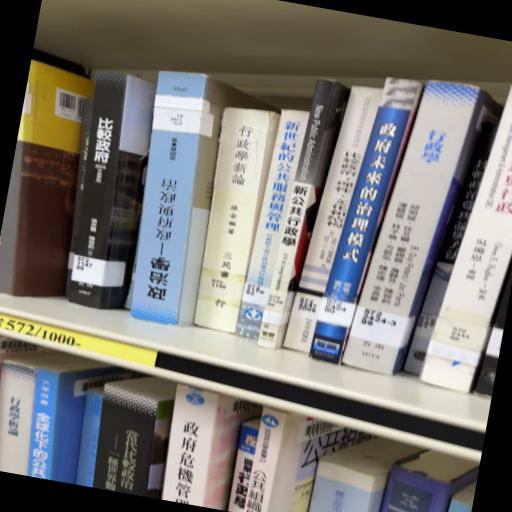reverse: (130, 71, 270, 325)
